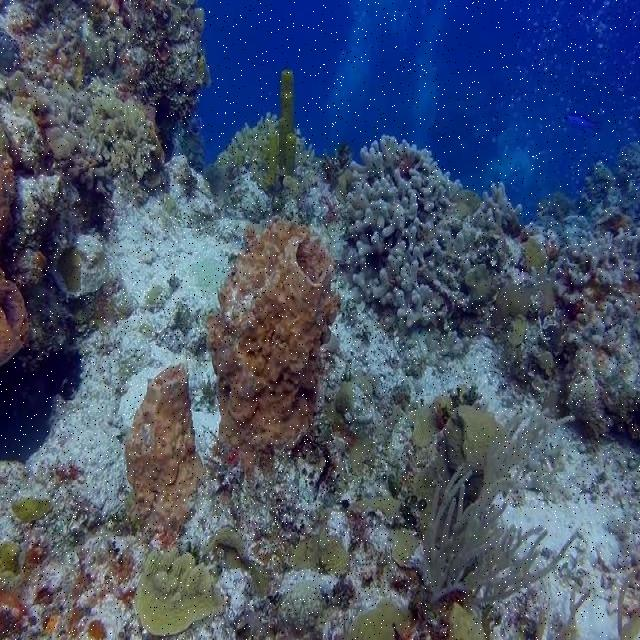aquatic plants: (424, 404, 576, 607)
reefs: (343, 136, 461, 326), (30, 93, 113, 185), (218, 114, 315, 186), (264, 67, 296, 191), (473, 179, 523, 234)
